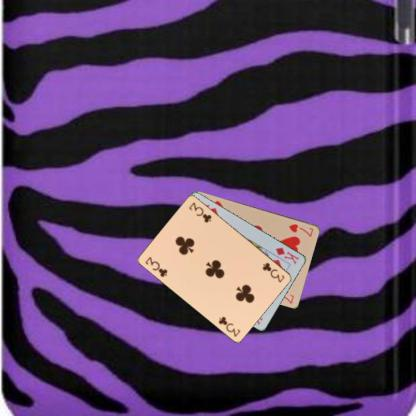3c: (260, 260, 286, 284), (143, 254, 169, 278)
7h: (287, 221, 314, 238)
Kd: (274, 244, 300, 266)
